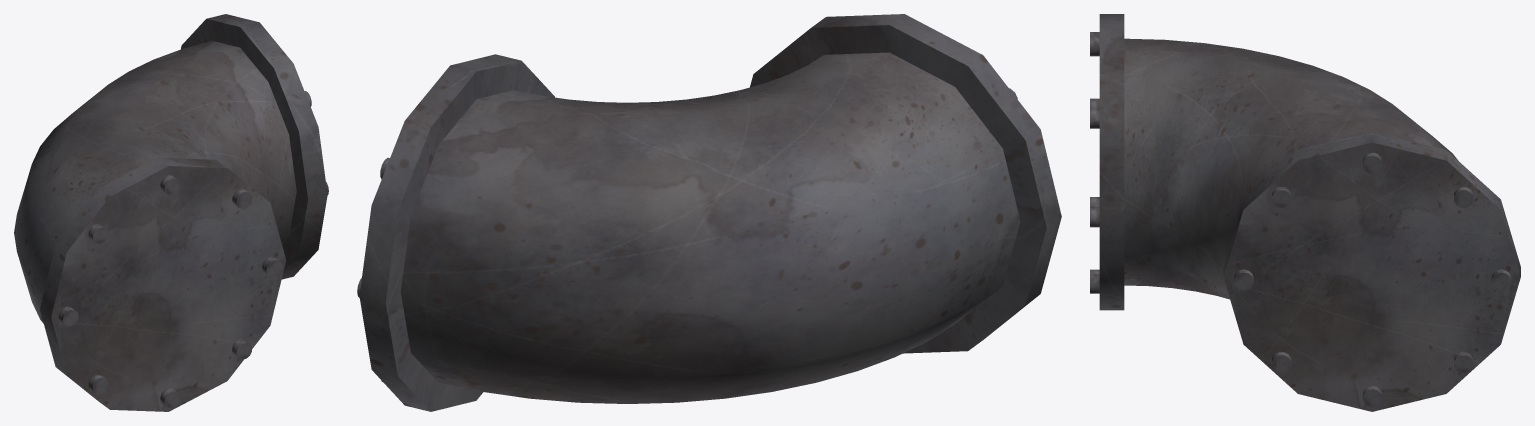
File: Pipe_Curve.fbx
The picture shows the model from 3 angles, left to right: view 1: azimuth 30°, elevation 25°; view 2: azimuth 150°, elevation 25°; view 3: azimuth 270°, elevation 25°; orthographic projection. The views are drawn at different scales.
Visible parts, largest first — view 1: Single Curve1; view 2: Single Curve1; view 3: Single Curve1.
Part boxes in pixels (bbox=[...]): Single Curve1: bbox=[14, 14, 328, 411]; Single Curve1: bbox=[357, 14, 1061, 411]; Single Curve1: bbox=[1090, 14, 1520, 411].
Size of the model in its own units: 8.65 by 6 by 8.69.
Materials: 1 (1 with a texture image).
